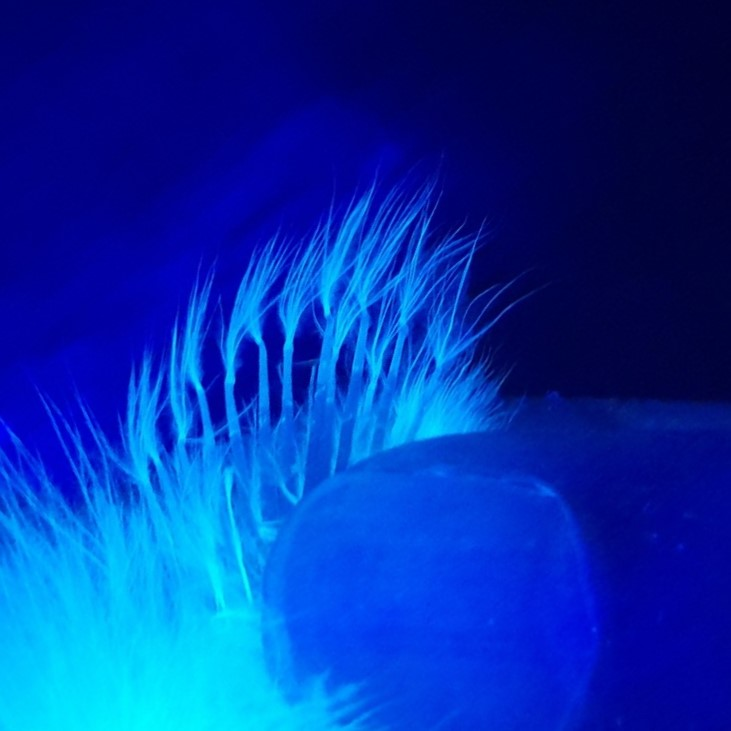male: (138, 295, 453, 607)
